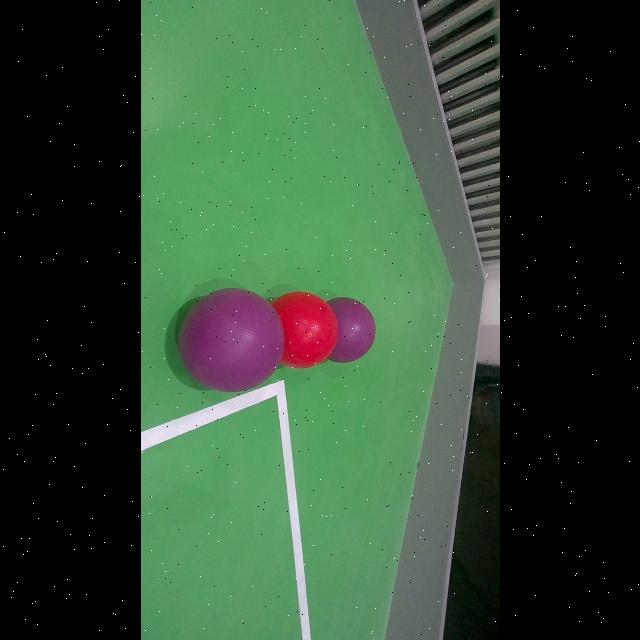P: (176, 288, 284, 392), (320, 295, 378, 363)
R: (272, 292, 338, 368)
